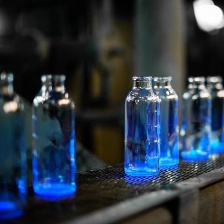bottle: (29, 70, 79, 203), (120, 73, 164, 178), (0, 68, 28, 221), (178, 74, 212, 162), (154, 72, 180, 167), (205, 69, 223, 154)
